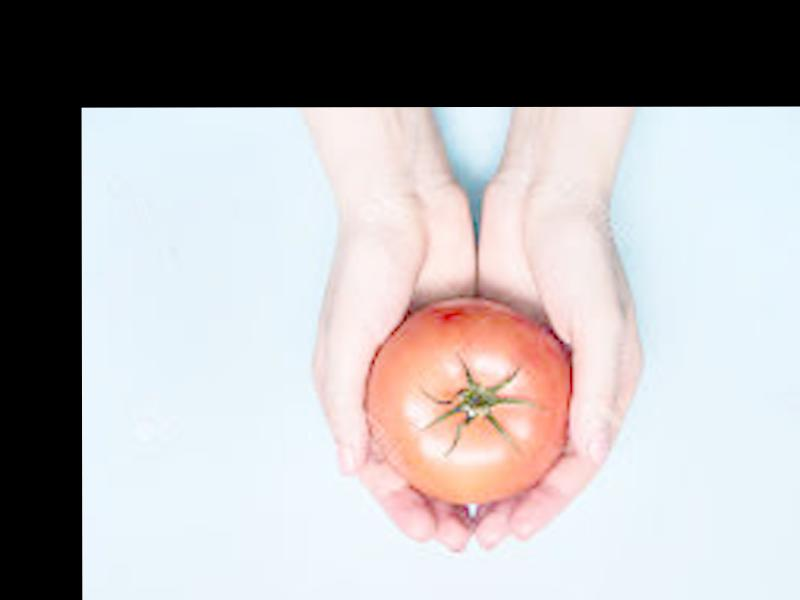Tomato: (365, 300, 577, 503)
